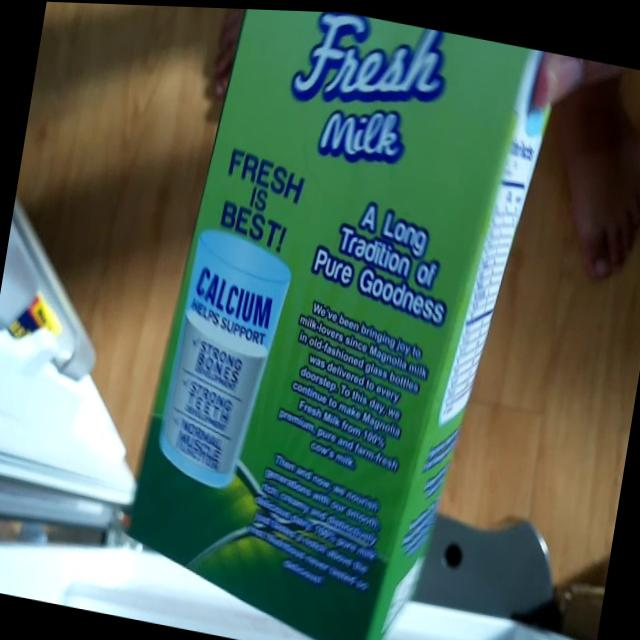milk: (107, 3, 580, 640)
